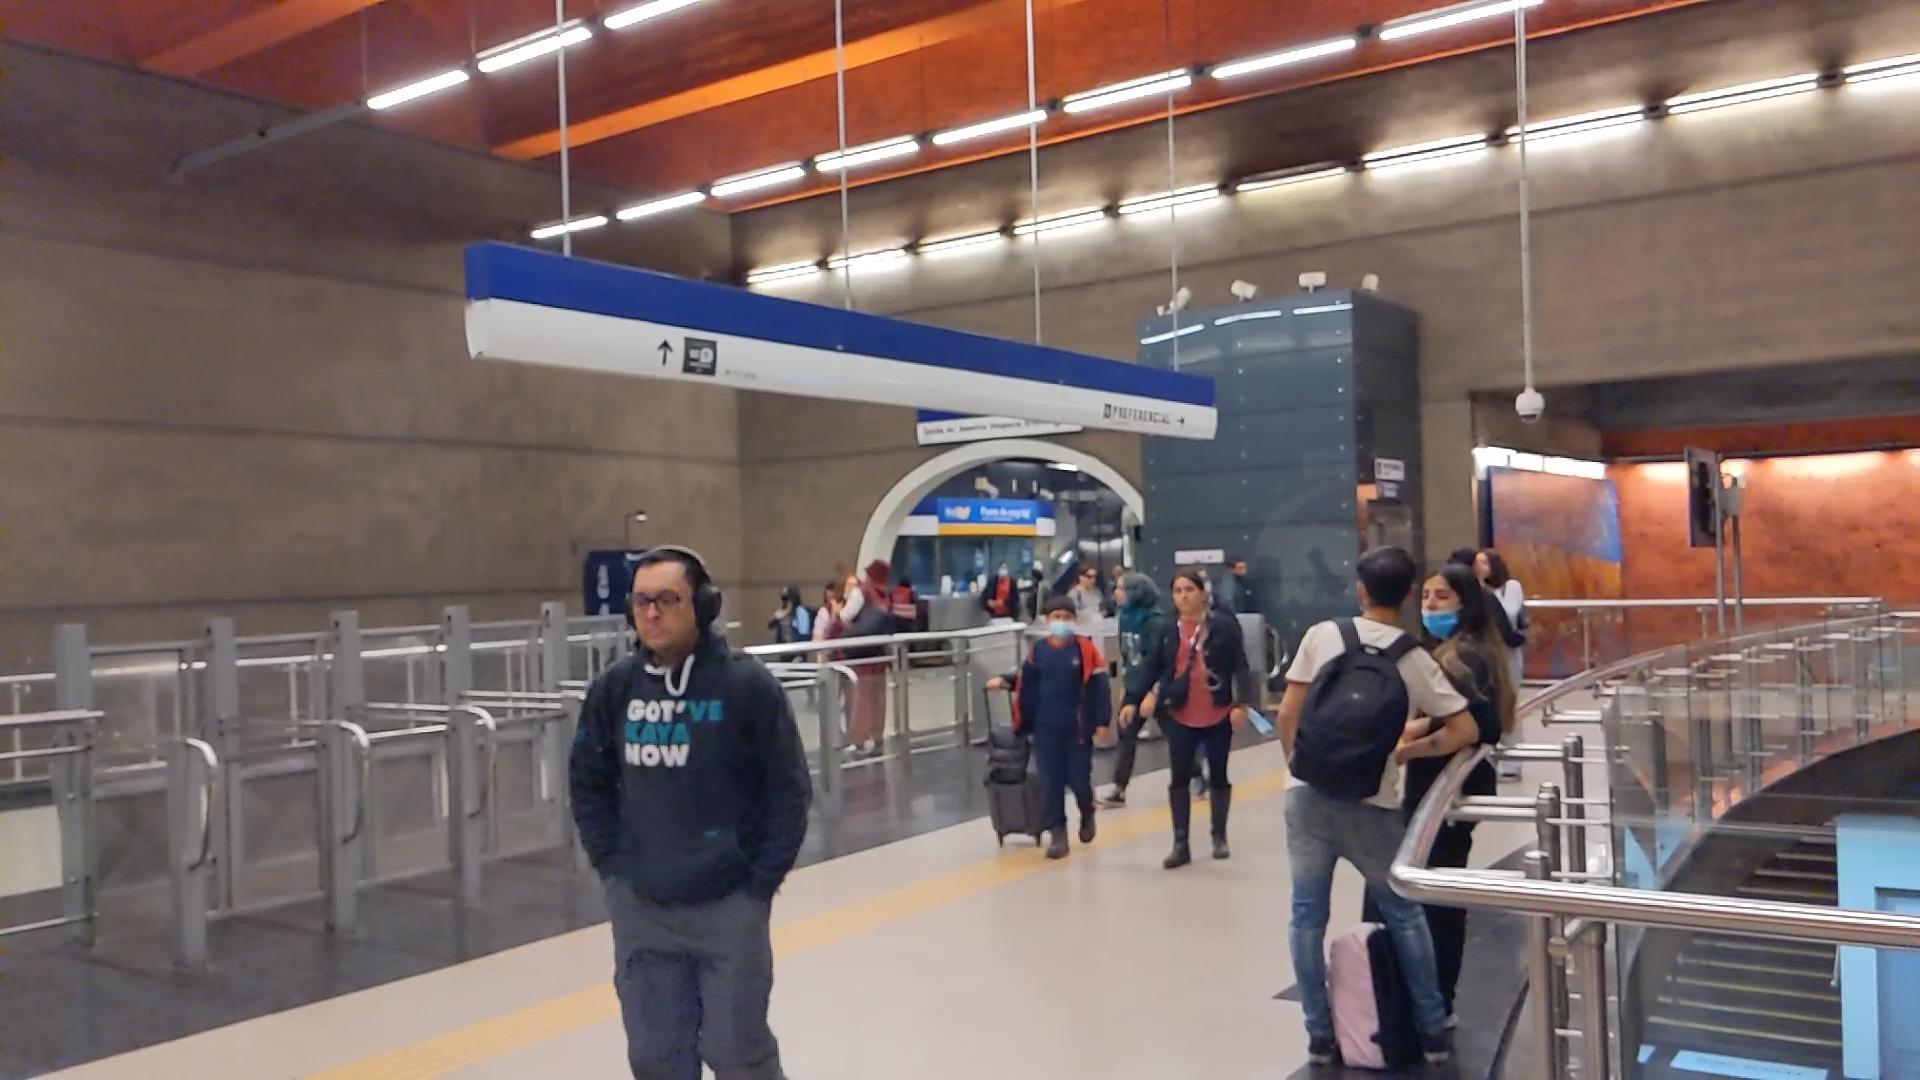up arrow: (654, 339, 678, 368)
